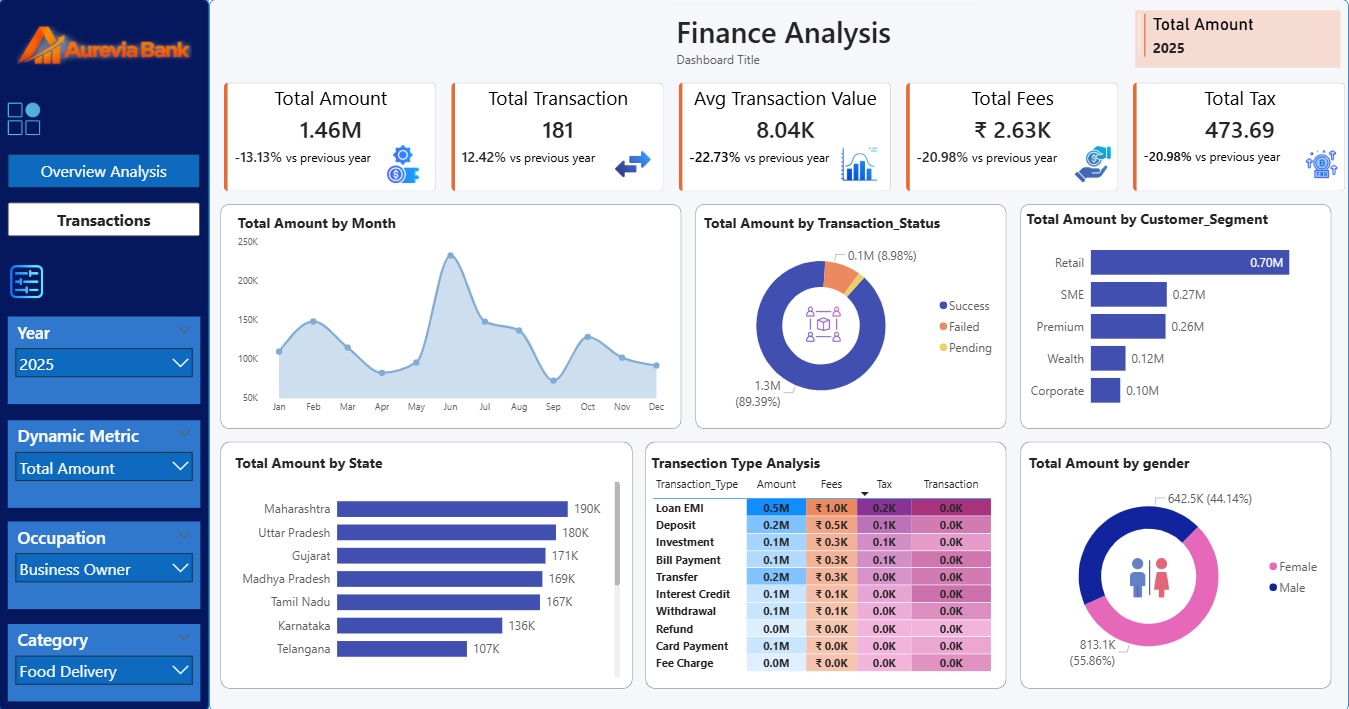

This screenshot's page, from the dashboard's own definition file:
{"tool":"powerbi","page":{"name":"Overview Analysis","canvas":[1800,950],"ordinal":0},"visuals":[{"type":"clusteredColumnChart","box":[454.4,122.2,280,280],"z":0},{"type":"shape","box":[0,0,280,950],"z":1000},{"type":"shape","box":[280,0,1520,950],"z":2000},{"type":"cardVisual","fields":{"Data":["finance_transactions.Dashboard Title"]},"box":[885,0,430,106.7],"z":3000},{"type":"cardVisual","fields":{"Data":["finance_transactions.Total Amount","calender Table.Total Transaction","calender Table.Avg Transaction Value","calender Table.Total Fees","calender Table.Total Tax"]},"box":[295,106.7,1505,155],"z":4000},{"type":"slicer","fields":{"Values":["calender Table.year"]},"box":[11.7,423.3,256.7,116.7],"z":5000},{"type":"image","box":[513.3,195,50,50],"z":6000},{"type":"image","box":[820,195,50,50],"z":7000},{"type":"image","box":[1738.3,195,50,50],"z":8000},{"type":"image","box":[1433.3,195,50,50],"z":9000},{"type":"image","box":[1118.3,195,56.7,50],"z":10000},{"type":"slicer","fields":{"Values":["Dynamic Metric.Dynamic Metric"]},"box":[11.7,561.7,256.7,116.7],"z":11000},{"type":"shape","box":[295,273.3,615,300],"z":12000},{"type":"areaChart","fields":{"Y":["finance_transactions.Total Amount"],"Category":["calender Table.Month"]},"box":[313.3,285,586.7,276.7],"z":13000},{"type":"multiRowCard","fields":{"Values":["Dynamic Metric.selected year","Dynamic Metric.Selected Dynamic Measure"]},"box":[1515,15,273.3,76.7],"z":14000},{"type":"shape","box":[928.3,273.3,415,300],"z":15000},{"type":"donutChart","fields":{"Y":["finance_transactions.Total Amount"],"Category":["finance_transactions.transaction_status"]},"box":[935,285,403.3,276.7],"z":16000},{"type":"shape","box":[1361.7,273.3,415,300],"z":17000},{"type":"clusteredBarChart","fields":{"Y":["finance_transactions.Total Amount"],"Category":["customers.customer_segment"]},"box":[1365,280,398.3,281.7],"z":18000},{"type":"shape","box":[295,590,550,330],"z":19000},{"type":"clusteredBarChart","fields":{"Y":["finance_transactions.Total Amount"],"Category":["customers.state"]},"box":[310,605,523.3,305],"z":20000},{"type":"shape","box":[861.7,590,481.7,330],"z":21000},{"type":"tableEx","title":"Transection Type Analysis","fields":{"Values":["finance_transactions.transaction_type","finance_transactions.Total Amount","calender Table.Total Fees","calender Table.Total Tax","calender Table.Total Transaction"]},"box":[865,605,473.3,305],"z":22000},{"type":"shape","box":[1361.7,590,415,330],"z":23000},{"type":"donutChart","fields":{"Y":["finance_transactions.Total Amount"],"Category":["customers.gender"]},"box":[1368.3,605,403.3,305],"z":24000},{"type":"image","box":[1061.7,408.3,75,50],"z":25000},{"type":"image","box":[1503.3,741.7,61.7,60],"z":26000},{"type":"slicer","fields":{"Values":["customers.occupation"]},"box":[11.7,696.7,256.7,116.7],"z":27000},{"type":"slicer","fields":{"Values":["finance_transactions.merchant_category"]},"box":[11.7,833.3,256.7,103.3],"z":28000},{"type":"pageNavigator","box":[11.7,206.7,256.7,110],"z":29000},{"type":"image","box":[23.3,15,233.3,91.7],"z":29001},{"type":"image","box":[11.7,351.7,50,50],"z":29002},{"type":"image","box":[11.7,135,43.3,50],"z":29003}]}

Visuals, with their boxes on the page's 1800x950 design canvas (x1, y1, x2, y2). These are canvas units, not pixel positions in the 1349x709 screenshot, which may show the page scaled, cropped or inside an application window:
clusteredColumnChart: x1=454 y1=122 x2=734 y2=402
shape: x1=0 y1=0 x2=280 y2=950
shape: x1=280 y1=0 x2=1800 y2=950
cardVisual - finance_transactions.Dashboard Title: x1=885 y1=0 x2=1315 y2=107
cardVisual - finance_transactions.Total Amount x calender Table.Total Transaction: x1=295 y1=107 x2=1800 y2=262
slicer - calender Table.year: x1=12 y1=423 x2=268 y2=540
image: x1=513 y1=195 x2=563 y2=245
image: x1=820 y1=195 x2=870 y2=245
image: x1=1738 y1=195 x2=1788 y2=245
image: x1=1433 y1=195 x2=1483 y2=245
image: x1=1118 y1=195 x2=1175 y2=245
slicer - Dynamic Metric.Dynamic Metric: x1=12 y1=562 x2=268 y2=678
shape: x1=295 y1=273 x2=910 y2=573
areaChart - finance_transactions.Total Amount x calender Table.Month: x1=313 y1=285 x2=900 y2=562
multiRowCard - Dynamic Metric.selected year x Dynamic Metric.Selected Dynamic Measure: x1=1515 y1=15 x2=1788 y2=92
shape: x1=928 y1=273 x2=1343 y2=573
donutChart - finance_transactions.Total Amount x finance_transactions.transaction_status: x1=935 y1=285 x2=1338 y2=562
shape: x1=1362 y1=273 x2=1777 y2=573
clusteredBarChart - finance_transactions.Total Amount x customers.customer_segment: x1=1365 y1=280 x2=1763 y2=562
shape: x1=295 y1=590 x2=845 y2=920
clusteredBarChart - finance_transactions.Total Amount x customers.state: x1=310 y1=605 x2=833 y2=910
shape: x1=862 y1=590 x2=1343 y2=920
"Transection Type Analysis" tableEx: x1=865 y1=605 x2=1338 y2=910
shape: x1=1362 y1=590 x2=1777 y2=920
donutChart - finance_transactions.Total Amount x customers.gender: x1=1368 y1=605 x2=1772 y2=910
image: x1=1062 y1=408 x2=1137 y2=458
image: x1=1503 y1=742 x2=1565 y2=802
slicer - customers.occupation: x1=12 y1=697 x2=268 y2=813
slicer - finance_transactions.merchant_category: x1=12 y1=833 x2=268 y2=937
pageNavigator: x1=12 y1=207 x2=268 y2=317
image: x1=23 y1=15 x2=257 y2=107
image: x1=12 y1=352 x2=62 y2=402
image: x1=12 y1=135 x2=55 y2=185
